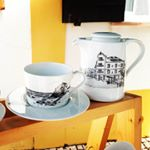cups: (21, 61, 86, 112)
